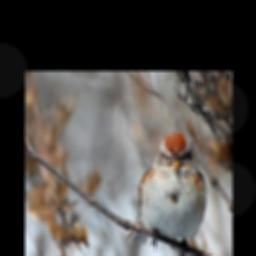Sparrow: (125, 130, 208, 256)
